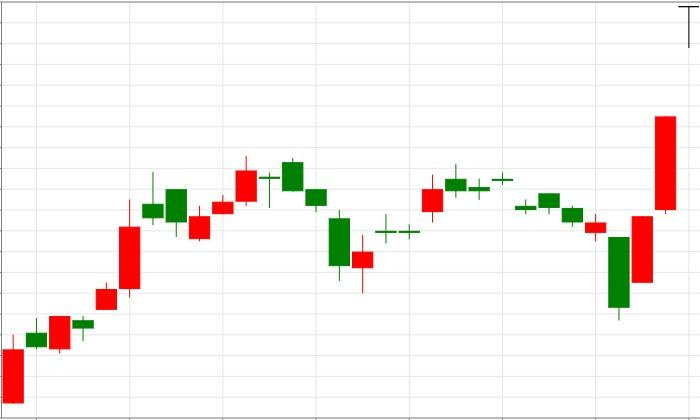evening_star_fall: (188, 155, 304, 242)
three_black_crows_fall: (188, 155, 350, 281)
